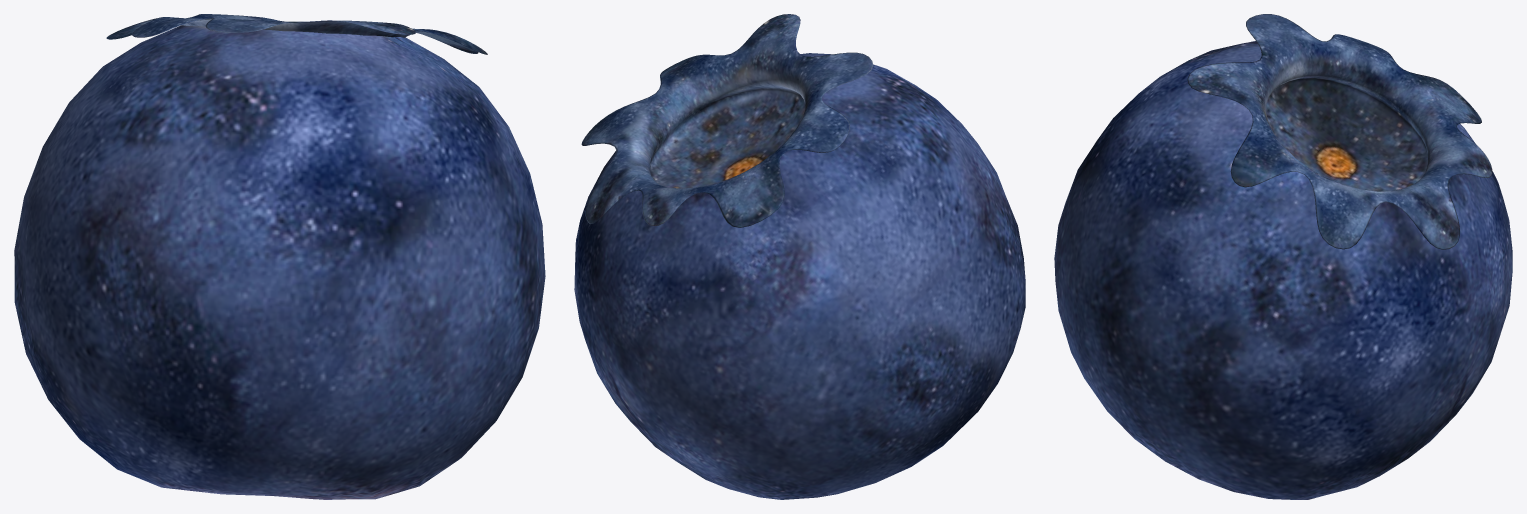
Rendered from blueberry.glb.
3 renders of one model, left to right at view 1: azimuth 30°, elevation 25°; view 2: azimuth 150°, elevation 25°; view 3: azimuth 270°, elevation 25°, orthographic. The views are drawn at different scales.
Visible parts, largest first — view 1: blueberry.002; view 2: blueberry.002; view 3: blueberry.002.
Part boxes in pixels (x1,y1,x2,y2): blueberry.002: [14, 14, 545, 499]; blueberry.002: [574, 14, 1025, 499]; blueberry.002: [1054, 14, 1512, 499].
Bounding box in the file's own units: 0.0093 × 0.00955 × 0.00933.
Materials: 1 (1 with a texture image).
